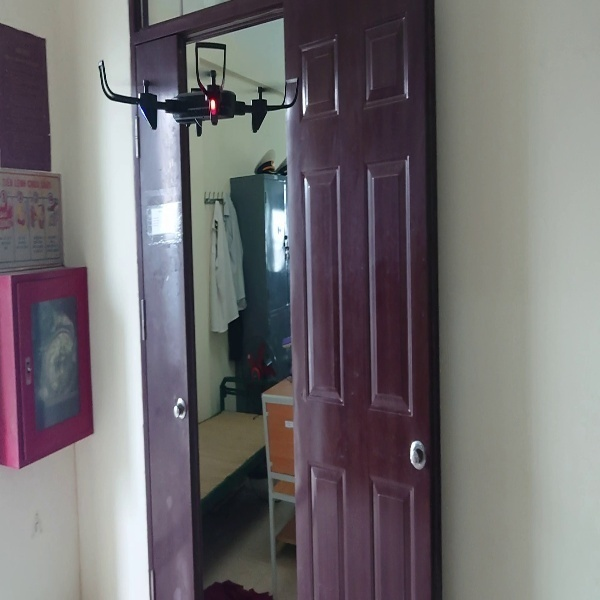drone: (92, 33, 301, 138)
